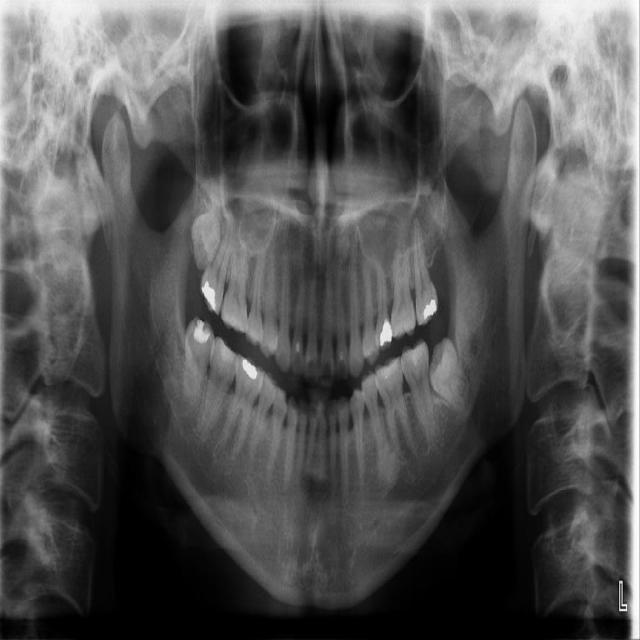Filling: (336, 343, 349, 381), (422, 295, 439, 323), (292, 337, 304, 376), (377, 320, 394, 347), (240, 354, 258, 378), (202, 281, 216, 308), (193, 321, 210, 342)
impacted tooth: (429, 340, 472, 406)
